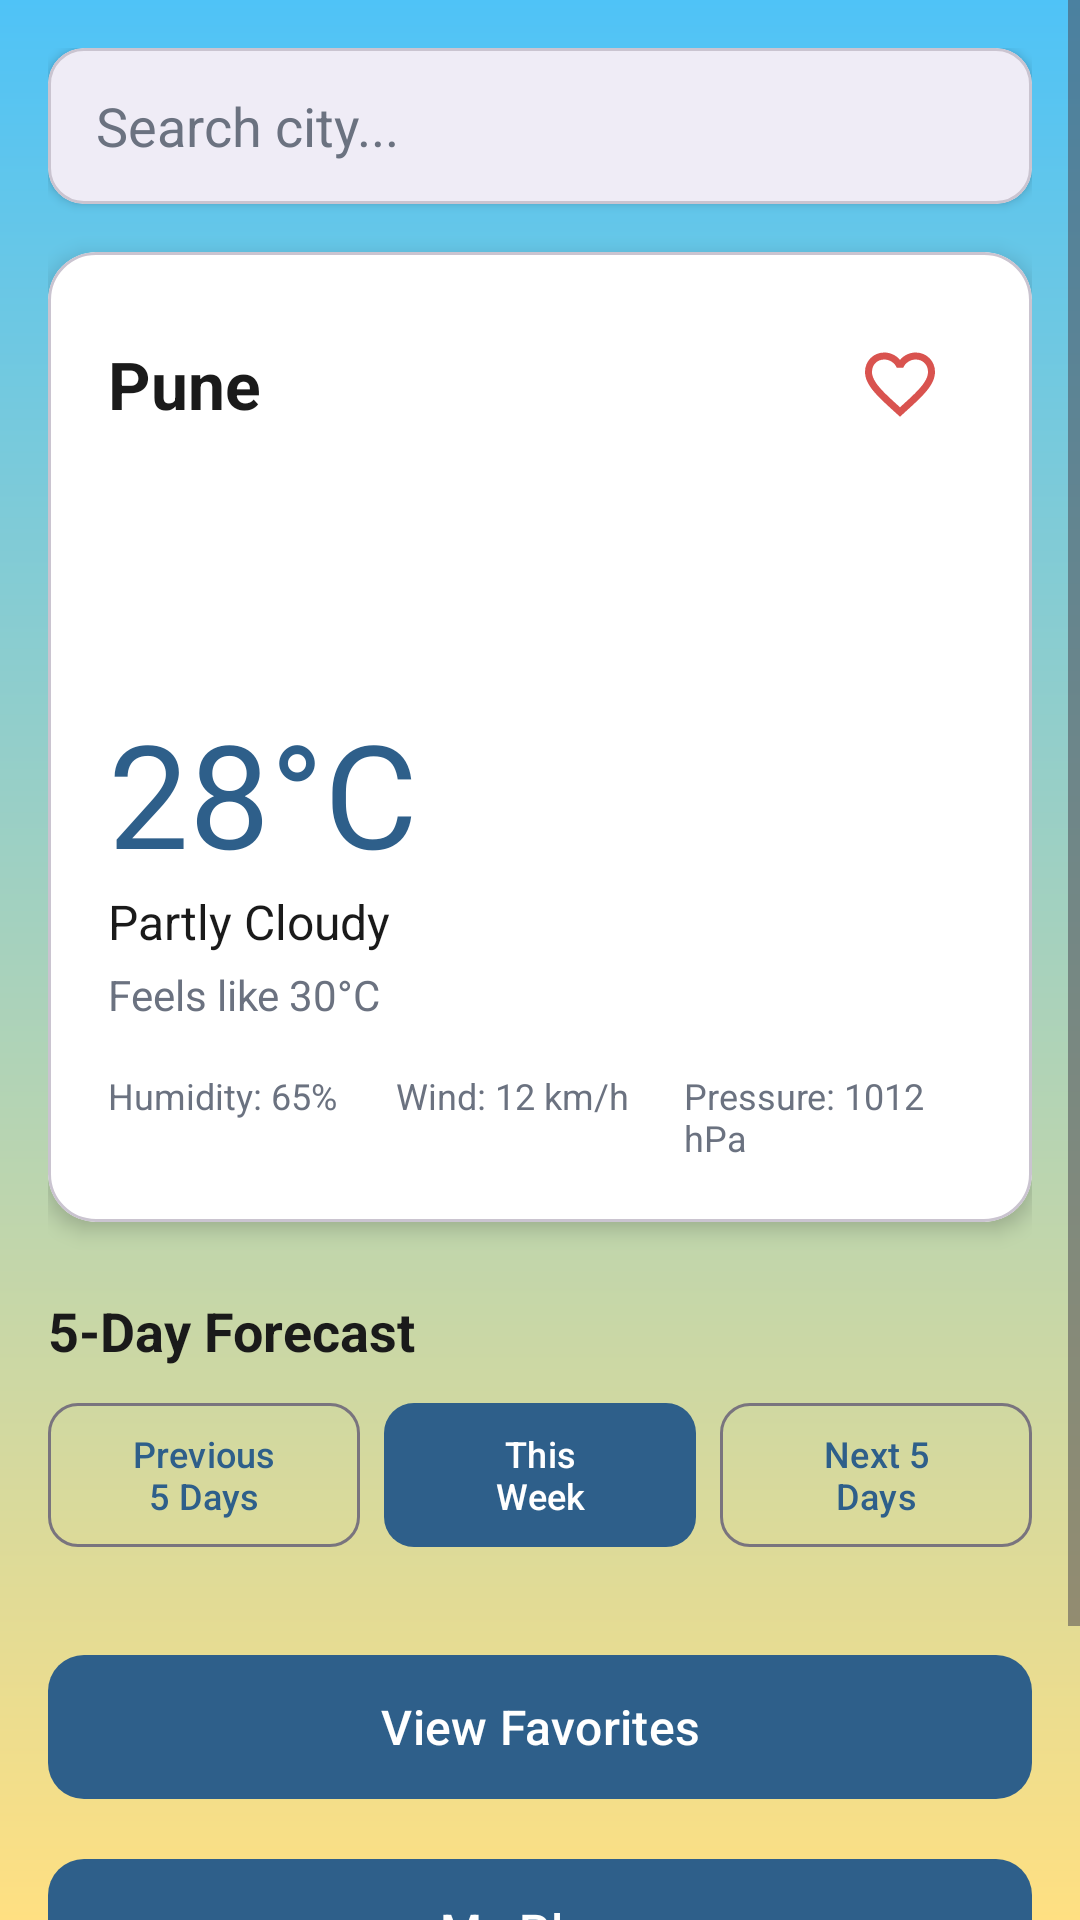

Named icons in this screenshot (1080px x 1920px) and their bounding boxes, (x1, y1, x2, y2):
Add to favorites: (865, 352, 935, 417)
